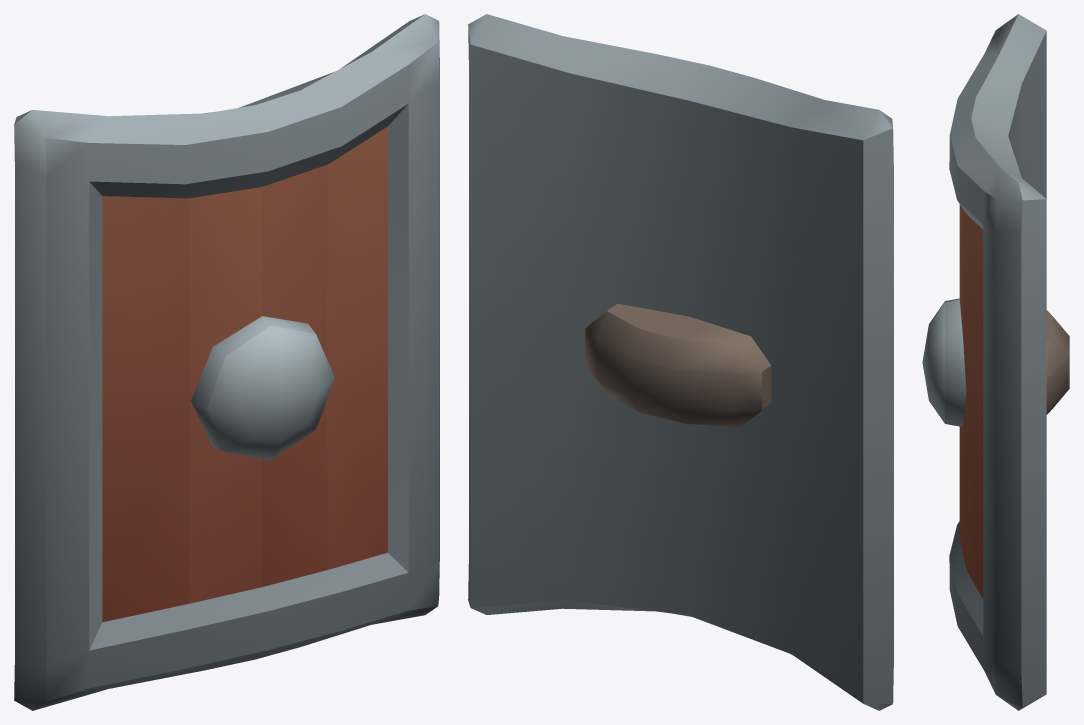
The model's file is kaykit-shield-square.glb.
3 renders of one model, left to right at view 1: azimuth 30°, elevation 25°; view 2: azimuth 150°, elevation 25°; view 3: azimuth 270°, elevation 25°, orthographic. The views are drawn at different scales.
Parts seen in each view (by area): view 1: kaykit-shield-square; view 2: kaykit-shield-square; view 3: kaykit-shield-square.
Boxes of the visible parts, box(x1,y1,x2,y2) form: kaykit-shield-square: box(14, 14, 439, 710); kaykit-shield-square: box(468, 14, 893, 710); kaykit-shield-square: box(922, 14, 1069, 710).
Size of the model in its own units: 0.6619 by 0.8947 by 0.2258.
Materials: 1 (1 with a texture image).
